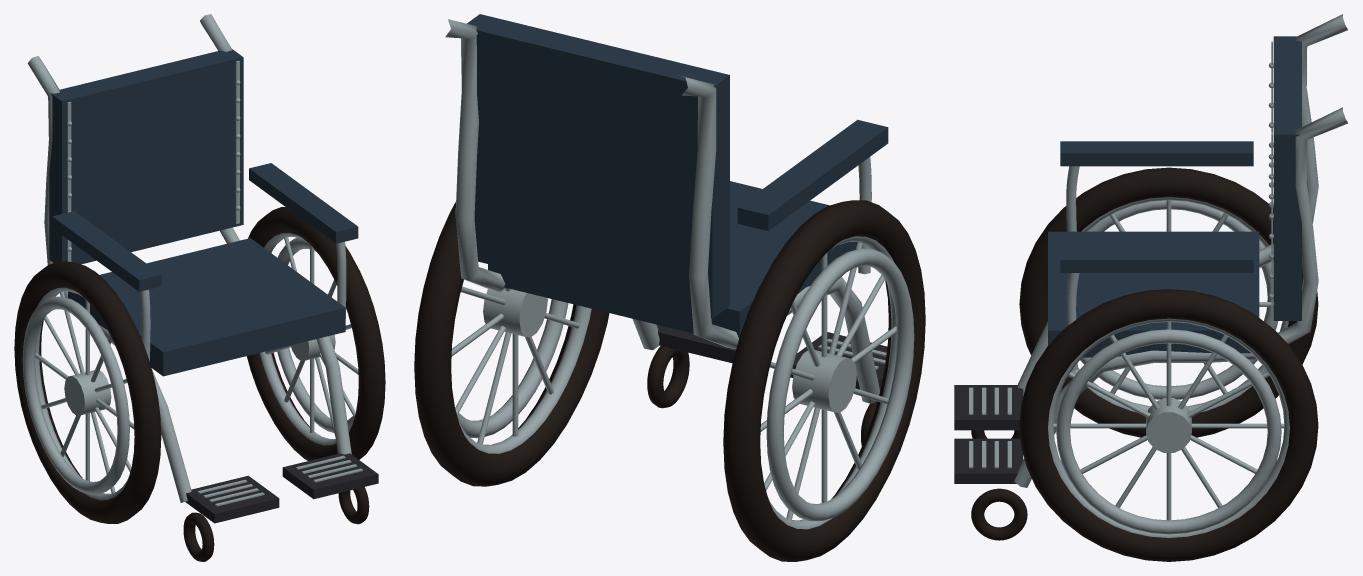
File: mia-wheelchair.glb
3 views of the same model, side by side, from view 1: azimuth 30°, elevation 25°; view 2: azimuth 150°, elevation 25°; view 3: azimuth 270°, elevation 25° (orthographic). The views are drawn at different scales.
Visible parts, largest first — view 1: Body_navy-seat, Body_steel, Body_black, Body_iron; view 2: Body_navy-seat, Body_steel, Body_black, Body_iron; view 3: Body_black, Body_steel, Body_navy-seat, Body_iron.
Part boxes in pixels (x1,y1,x2,y2): Body_navy-seat: (49, 48, 358, 376); Body_steel: (22, 14, 362, 506); Body_black: (14, 207, 385, 561); Body_iron: (185, 453, 378, 523); Body_navy-seat: (467, 14, 888, 338); Body_steel: (445, 19, 914, 529); Body_black: (414, 200, 925, 561); Body_iron: (657, 324, 887, 390); Body_black: (971, 167, 1318, 561); Body_steel: (969, 14, 1348, 537); Body_navy-seat: (1048, 36, 1301, 357); Body_iron: (954, 385, 1023, 483).
Size of the model in its own units: 0.6935 by 1.01 by 0.825.
